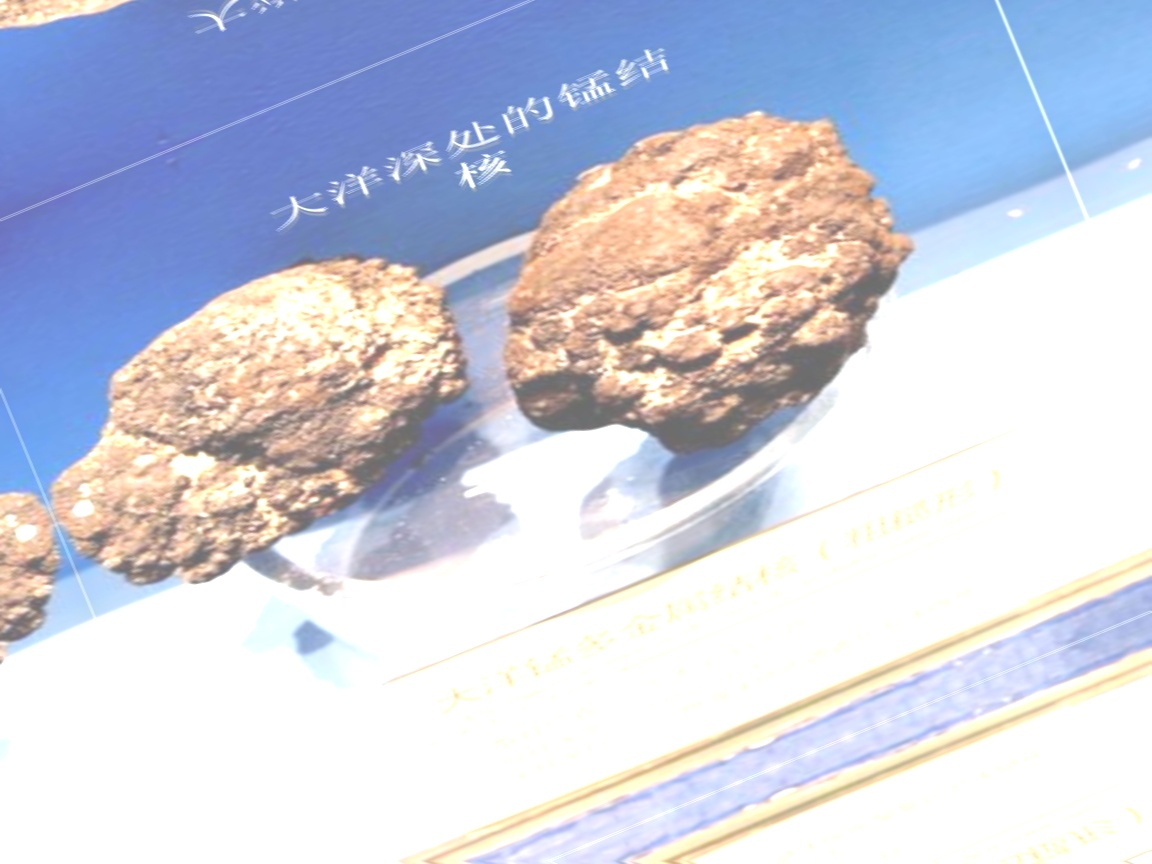halobolite: (4, 209, 524, 632), (497, 121, 959, 474)
